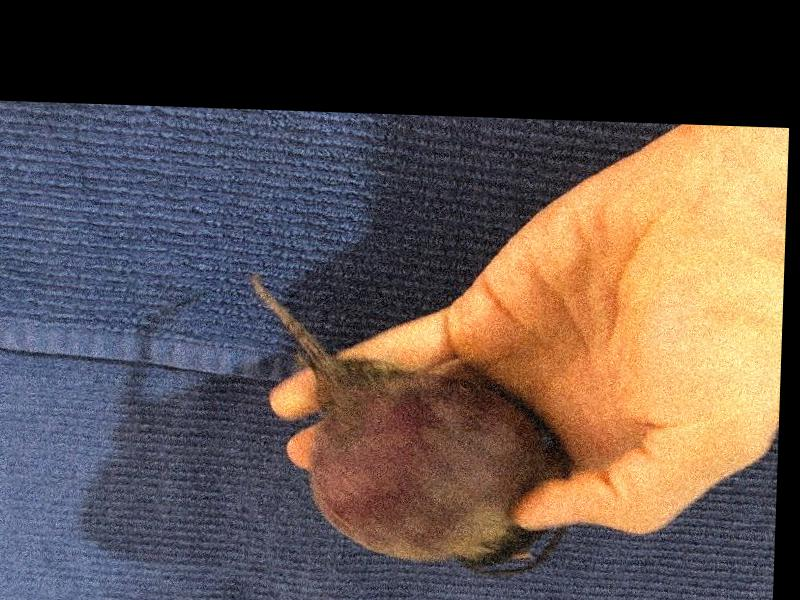Beet: (239, 273, 574, 578)
